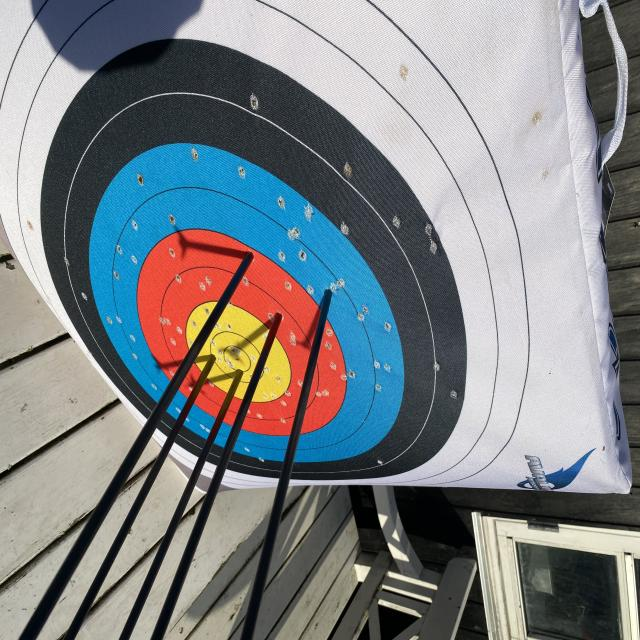Arrow_Blue: (308, 266, 347, 336)
Arrow_Red: (230, 220, 265, 278), (268, 288, 304, 341)
Arrow_Yellow: (226, 354, 248, 392), (200, 338, 222, 376)
